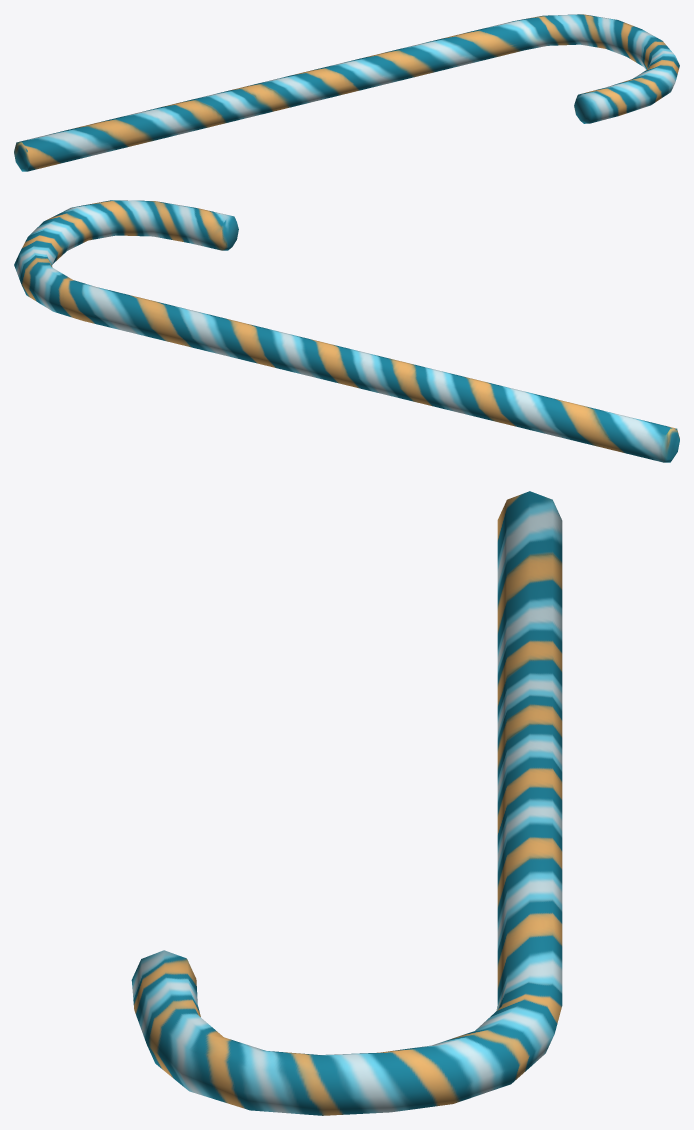
The model's file is CHP_MOD_Candy_cane_turqoise_orange.fbx.
3 views of the same model, one above another, from view 1: azimuth 30°, elevation 25°; view 2: azimuth 150°, elevation 25°; view 3: azimuth 270°, elevation 25° (orthographic). The views are drawn at different scales.
Visible parts, largest first — view 1: CHP_MOD_Candy_cane_turqoise_orange; view 2: CHP_MOD_Candy_cane_turqoise_orange; view 3: CHP_MOD_Candy_cane_turqoise_orange.
Part boxes in pixels (<box>): CHP_MOD_Candy_cane_turqoise_orange: <box>14,14,679,171</box>; CHP_MOD_Candy_cane_turqoise_orange: <box>14,200,679,462</box>; CHP_MOD_Candy_cane_turqoise_orange: <box>131,491,562,1115</box>.
Size of the model in its own units: 1.18 by 0.0557 by 0.3706.
